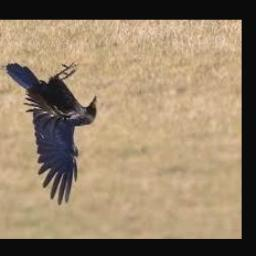Crow: (4, 62, 97, 205)
